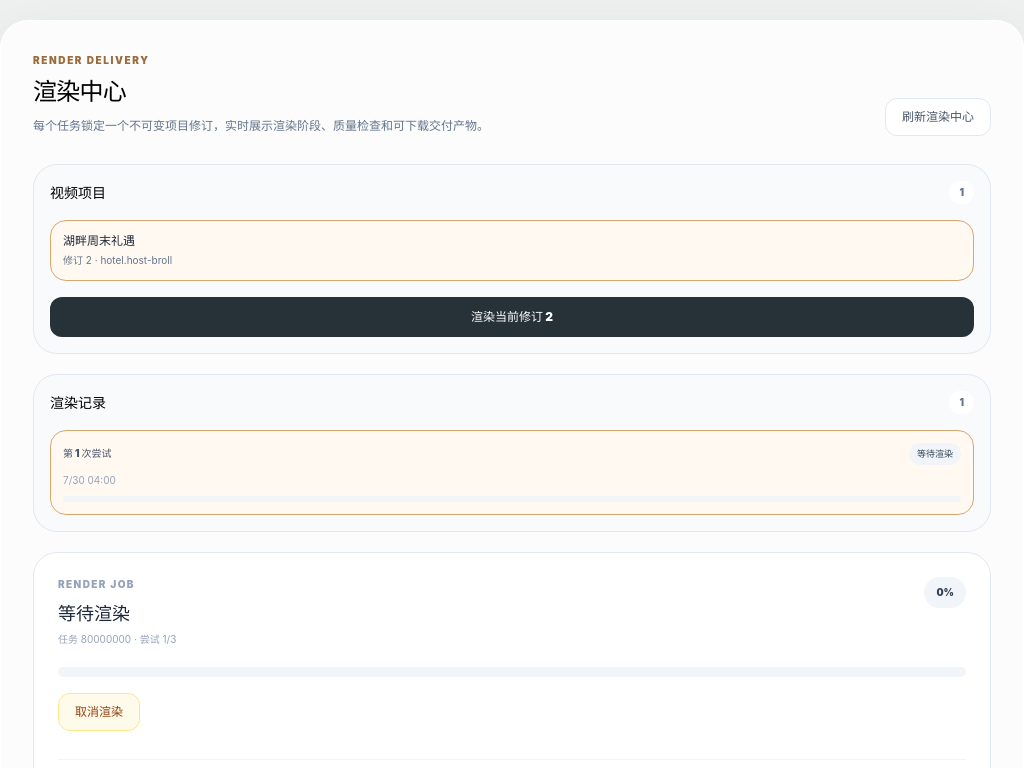
Test: production render center › requests cancellation for an active render
Click the button "取消渲染": click(99, 712) [58,692,140,730]
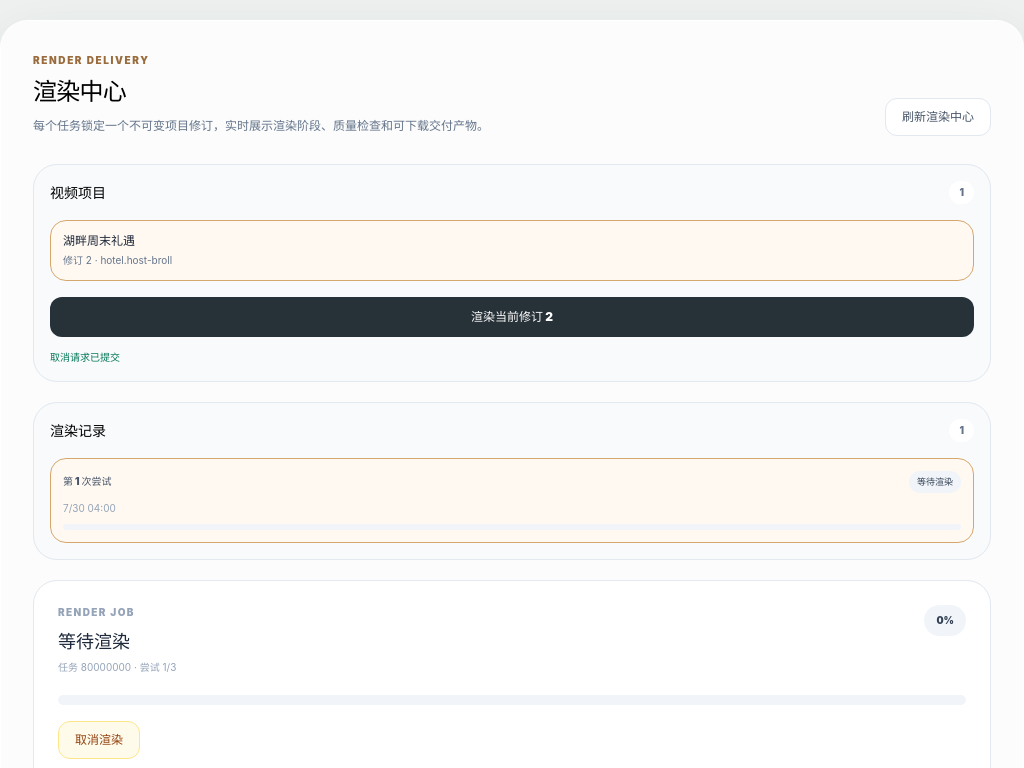
Result: the text "取消请求已提交" is shown at [50,351,120,363]
